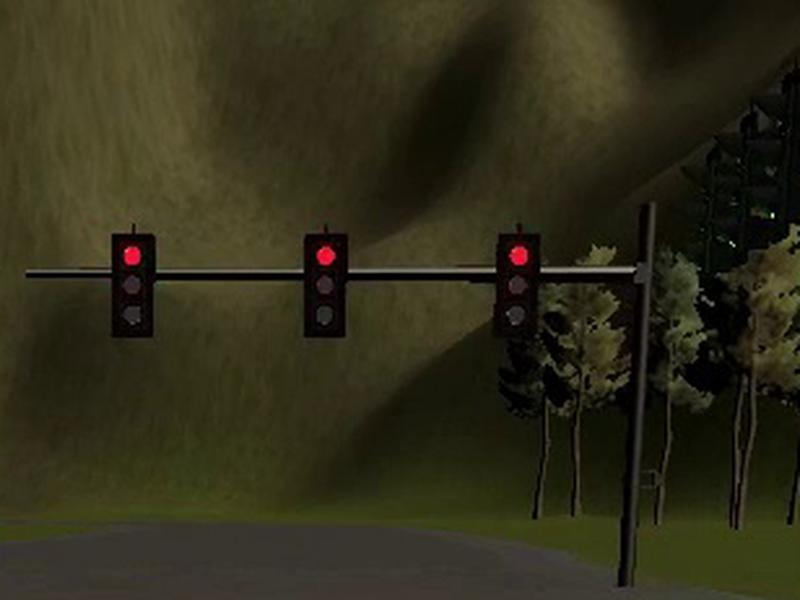Red: (492, 234, 541, 338), (303, 234, 348, 338), (111, 234, 155, 339)
